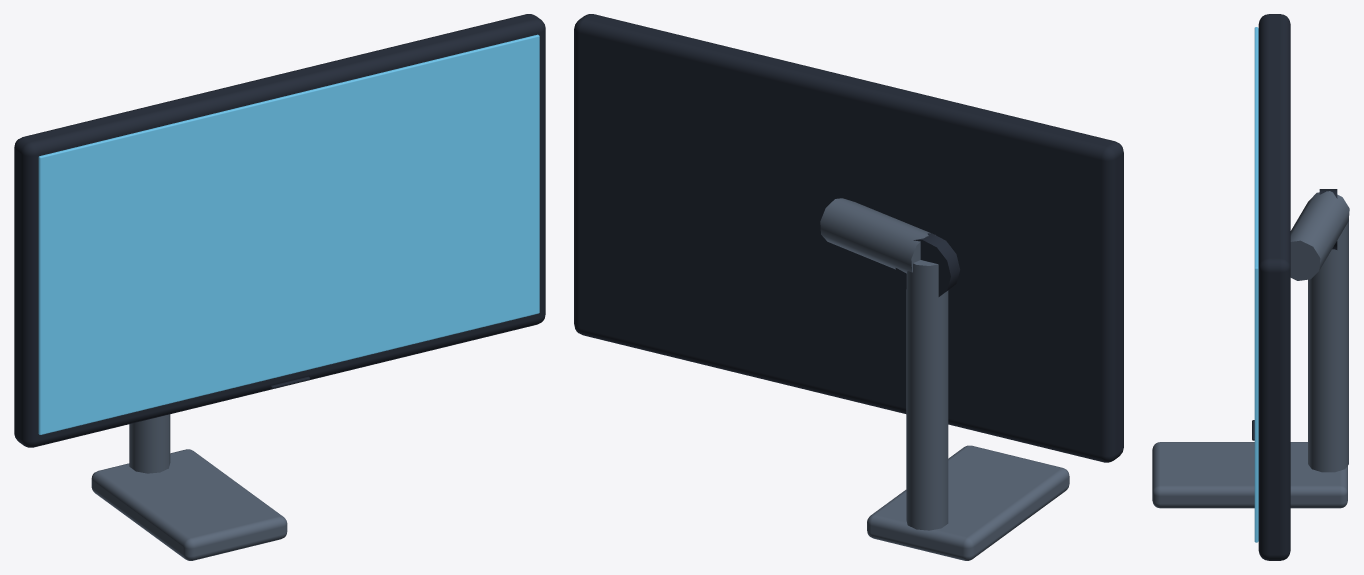
File: monitor.27.arm.f6eb4af9ce.glb
The picture shows the model from 3 angles, left to right: view 1: azimuth 30°, elevation 25°; view 2: azimuth 150°, elevation 25°; view 3: azimuth 270°, elevation 25°; orthographic projection. The views are drawn at different scales.
Parts seen in each view (by area): view 1: screen, body, stand; view 2: body, stand; view 3: stand, body, screen.
Part boxes in pixels (<box>): screen: <box>38,34,539,434</box>; body: <box>14,14,545,447</box>; stand: <box>91,414,287,560</box>; body: <box>574,14,1123,462</box>; stand: <box>820,198,1069,560</box>; stand: <box>1152,191,1349,508</box>; body: <box>1252,14,1337,560</box>; screen: <box>1254,27,1258,542</box>.
Size of the model in its own units: 0.61 by 0.45 by 0.2016.
